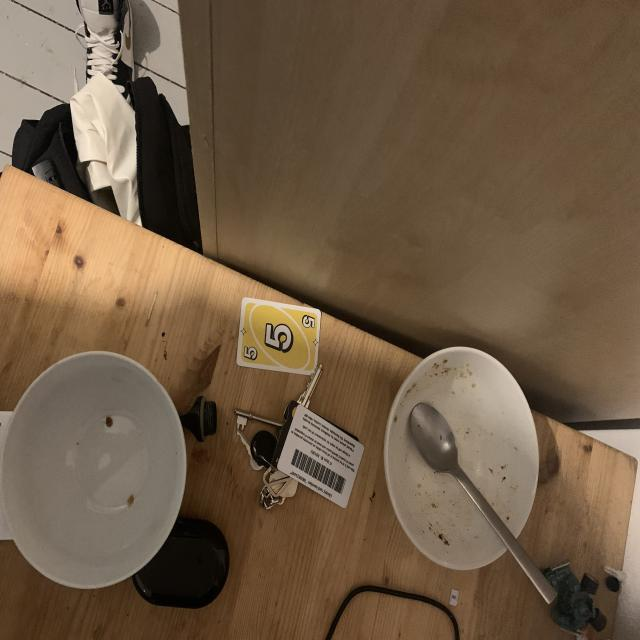lyellow-5: (298, 310, 317, 334)
